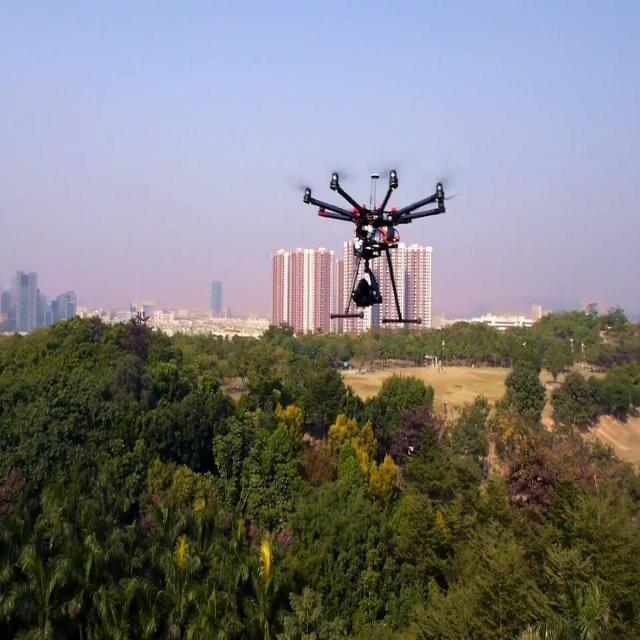UAV: (300, 168, 454, 324)
